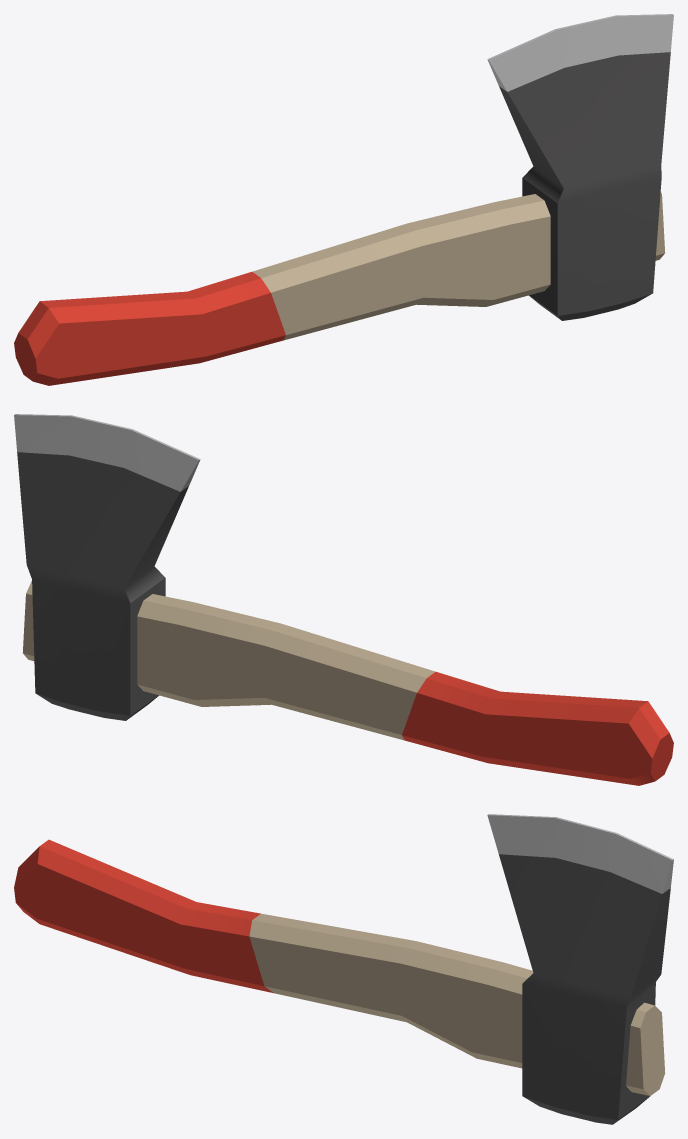
Rendered from First.fbx.
3 views of the same model, one above another, from view 1: azimuth 30°, elevation 25°; view 2: azimuth 150°, elevation 25°; view 3: azimuth 330°, elevation 25° (orthographic).
Visible parts, largest first — view 1: Topor; view 2: Topor; view 3: Topor.
Part boxes in pixels (<box>): Topor: <box>14,14,673,385</box>; Topor: <box>14,414,673,785</box>; Topor: <box>14,814,673,1124</box>.
Bounding box in the file's own units: 0.4025 × 0.0375 × 0.1681.
